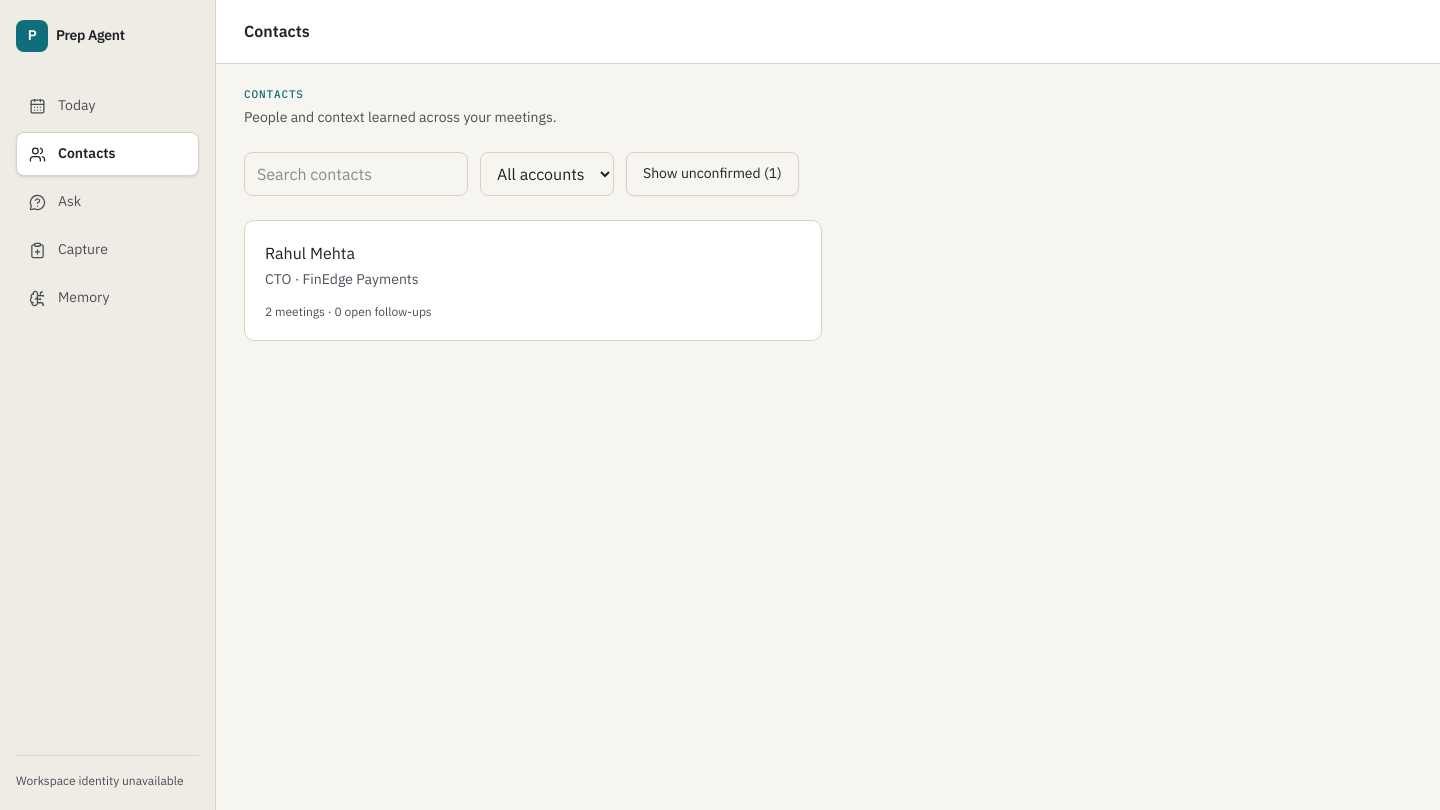
Contacts list › shows confirmed contacts by default and lets the user reveal unconfirmed contacts
Expected: the text "Rahul Mehta" is shown, [265, 243, 355, 263]
Expected: the text "Ananya" is not shown
Click the button "Show unconfirmed (1)": {"x": 712, "y": 174} [626, 152, 799, 196]
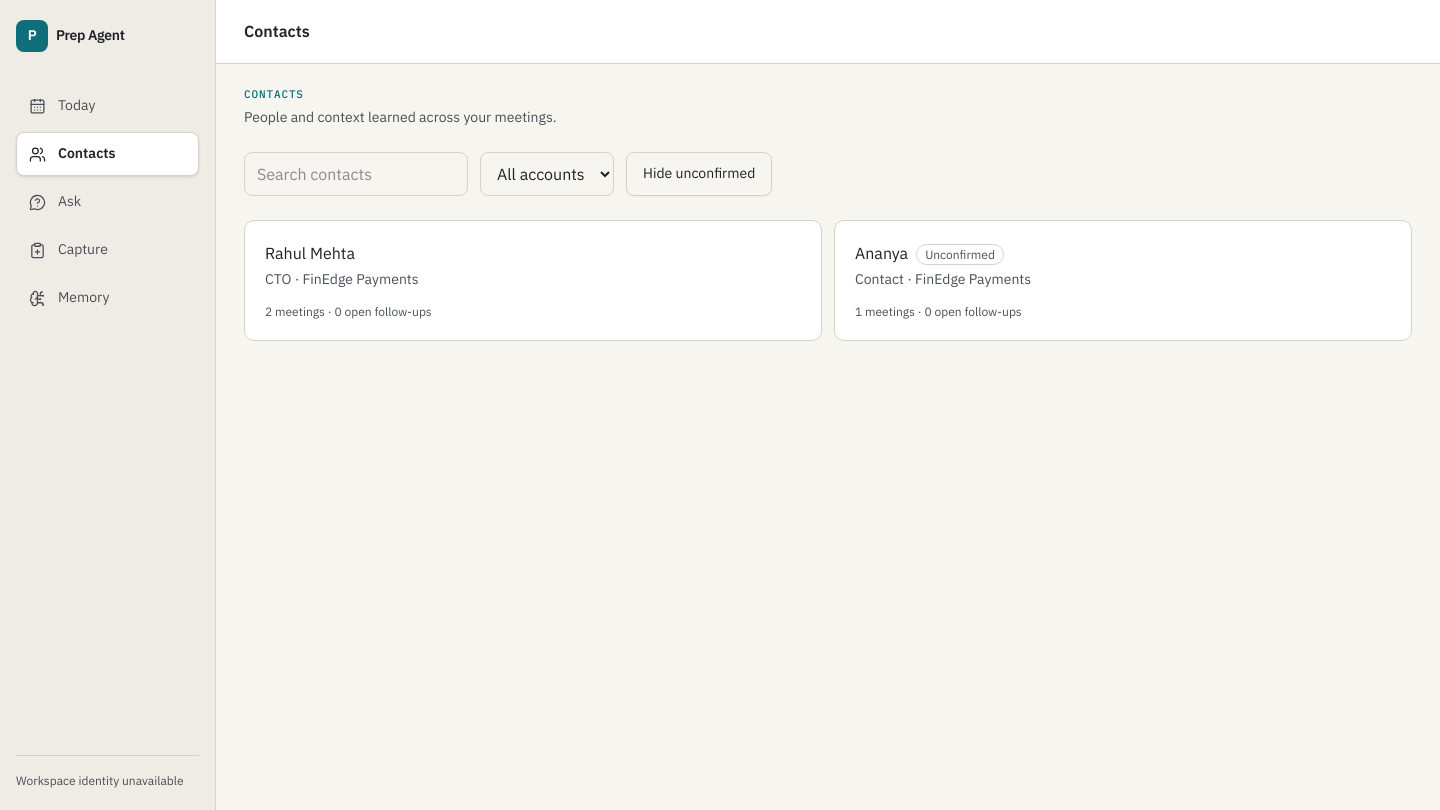
Expected: the text "Ananya" is shown, [855, 243, 908, 263]
Expected: the text "Unconfirmed" is shown, [916, 244, 1004, 265]
